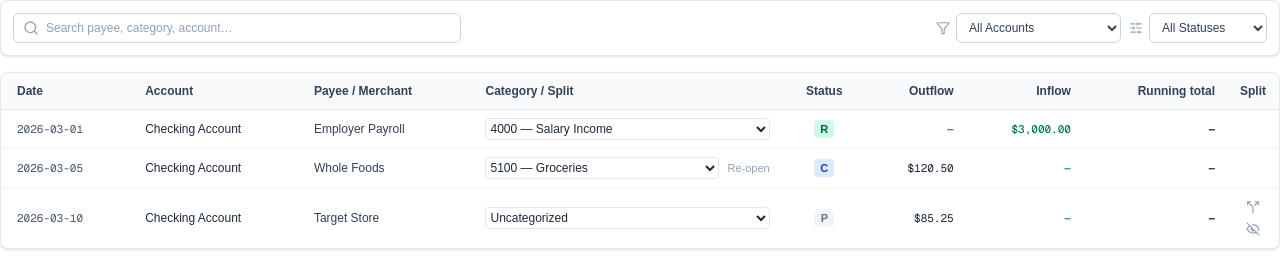
Test: TransactionRegister › ignores an uncategorized transaction and leaves it out of the running total
Select "Checking Account" in the dropdown named "filter by account" at (1038, 28), box [956,13,1121,43]
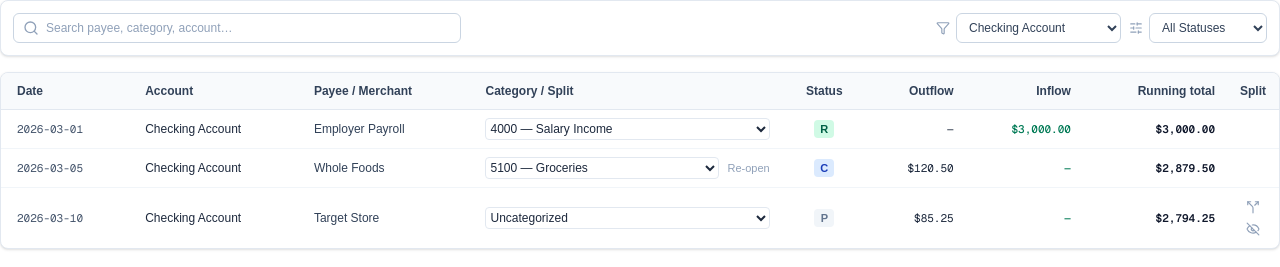
Click the button named "ignore target store" at (1253, 229), box [1242,218,1264,240]
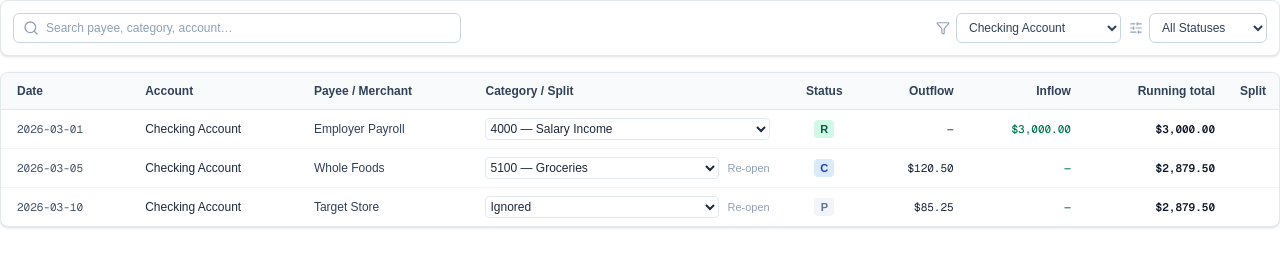
Check: the text "$2,879.50" is shown 2 times, box [1083,148,1231,188]; [1083,188,1231,226]
Check: the text "$2,794.25" is gone
Check: the button "Re-open" in the row of "2026-03-10" is shown, box [727,200,770,214]
